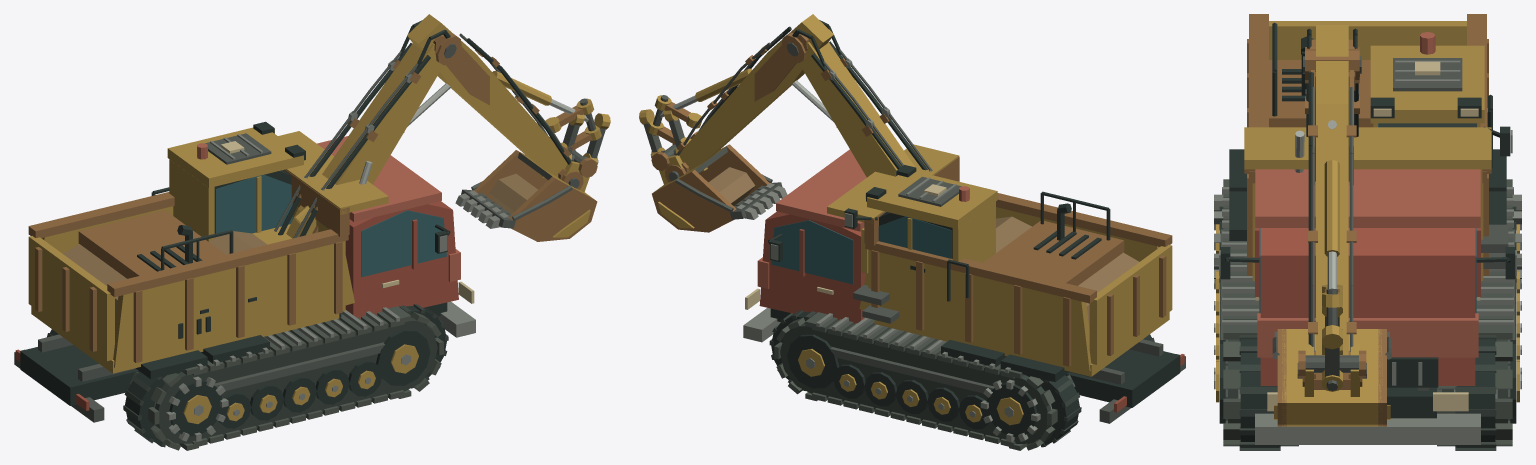
File: riverside-earthworks-kit.glb
The picture shows the model from 3 angles, left to right: view 1: azimuth 30°, elevation 25°; view 2: azimuth 150°, elevation 25°; view 3: azimuth 270°, elevation 25°; orthographic projection. The views are drawn at different scales.
Visible parts, largest first — view 1: GEO-dumptruck-bed, GEO-excavator-undercarriage, GEO-dumptruck-chassis-cab, GEO-excavator-upperworks, GEO-excavator-boom, GEO-excavator-stick, GEO-excavator-bucket, GEO-dumptruck-tailgate, GEO-dumptruck-payload, GEO-dumptruck-wheel-RR, GEO-excavator-soil, GEO-bucket-rocker (+2 smaller); view 2: GEO-dumptruck-bed, GEO-excavator-undercarriage, GEO-dumptruck-chassis-cab, GEO-excavator-upperworks, GEO-excavator-boom, GEO-excavator-stick, GEO-excavator-bucket, GEO-dumptruck-tailgate, GEO-dumptruck-payload, GEO-dumptruck-wheel-RL, GEO-bucket-rocker, GEO-excavator-soil (+3 smaller); view 3: GEO-dumptruck-chassis-cab, GEO-excavator-upperworks, GEO-dumptruck-bed, GEO-excavator-undercarriage, GEO-excavator-stick, GEO-excavator-bucket, GEO-dumptruck-tailgate, GEO-dumptruck-wheel-FL, GEO-dumptruck-wheel-FR, GEO-excavator-boom, GEO-cylinder-bucket-barrel, GEO-bucket-link (+2 smaller).
Part boxes in pixels (x1,y1,x2,y2): GEO-dumptruck-bed: [28, 131, 388, 373]; GEO-excavator-undercarriage: [129, 306, 443, 450]; GEO-dumptruck-chassis-cab: [14, 136, 475, 422]; GEO-excavator-upperworks: [78, 121, 354, 338]; GEO-excavator-boom: [274, 20, 461, 238]; GEO-excavator-stick: [407, 14, 571, 179]; GEO-excavator-bucket: [455, 149, 597, 241]; GEO-dumptruck-tailgate: [28, 236, 114, 361]; GEO-dumptruck-payload: [63, 231, 266, 322]; GEO-dumptruck-wheel-RR: [123, 371, 181, 447]; GEO-excavator-soil: [489, 173, 537, 214]; GEO-bucket-rocker: [545, 98, 601, 150]; GEO-dumptruck-bed: [827, 144, 1172, 376]; GEO-excavator-undercarriage: [774, 312, 1075, 450]; GEO-dumptruck-chassis-cab: [743, 149, 1185, 423]; GEO-excavator-upperworks: [844, 165, 1124, 323]; GEO-excavator-boom: [781, 20, 932, 177]; GEO-excavator-stick: [676, 14, 833, 172]; GEO-excavator-bucket: [651, 144, 787, 232]; GEO-dumptruck-tailgate: [1089, 245, 1172, 364]; GEO-dumptruck-payload: [996, 216, 1138, 329]; GEO-dumptruck-wheel-RL: [1026, 375, 1081, 447]; GEO-bucket-rocker: [647, 95, 702, 145]; GEO-excavator-soil: [708, 167, 755, 205]; GEO-dumptruck-chassis-cab: [1219, 149, 1516, 444]; GEO-excavator-upperworks: [1269, 22, 1512, 268]; GEO-dumptruck-bed: [1244, 14, 1491, 280]; GEO-excavator-undercarriage: [1214, 179, 1521, 446]; GEO-excavator-stick: [1308, 25, 1356, 389]; GEO-excavator-bucket: [1272, 329, 1391, 426]; GEO-dumptruck-tailgate: [1269, 21, 1466, 59]; GEO-dumptruck-wheel-FL: [1454, 335, 1497, 450]; GEO-dumptruck-wheel-FR: [1238, 335, 1280, 450]; GEO-excavator-boom: [1303, 28, 1361, 181]; GEO-cylinder-bucket-barrel: [1324, 160, 1339, 256]; GEO-bucket-link: [1322, 306, 1342, 391].
Bounding box in the file's own units: 8.39 × 4.86 × 2.94.
